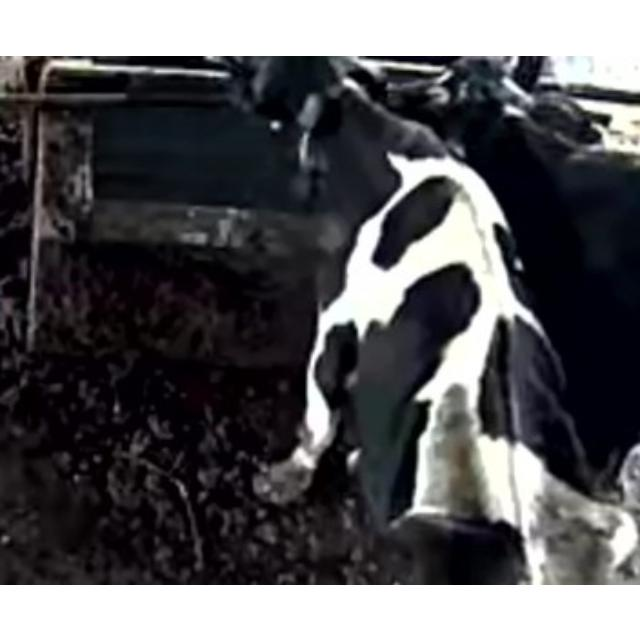drink: (220, 54, 424, 256), (412, 59, 592, 229)
